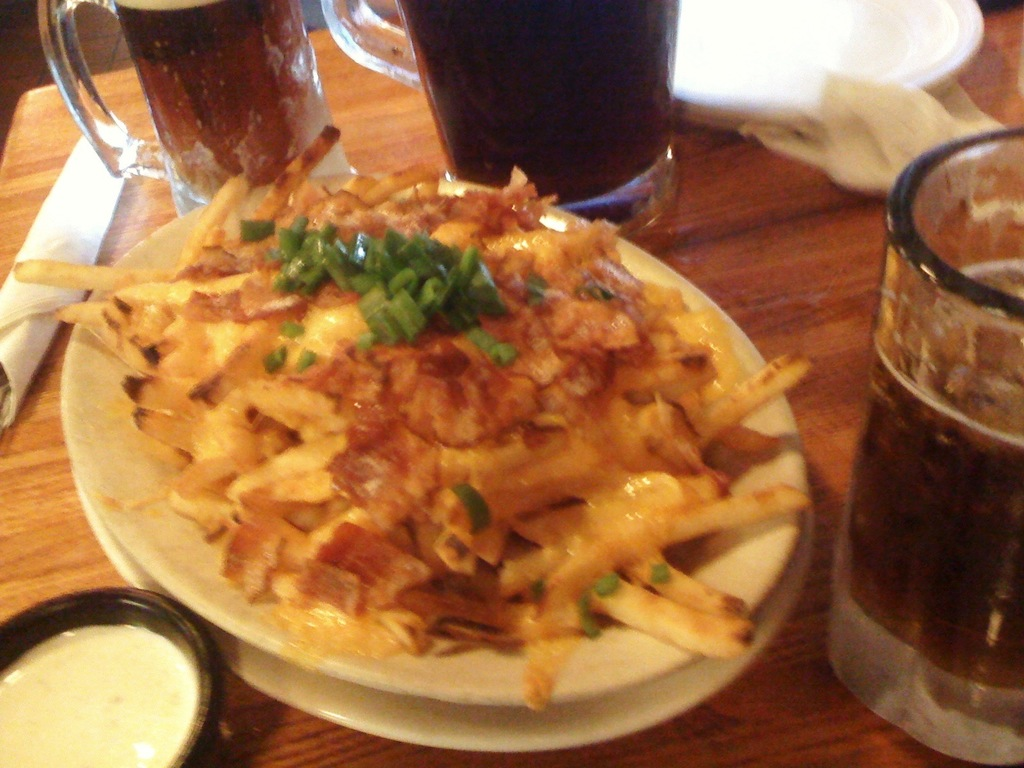French fries: (124, 139, 783, 639)
